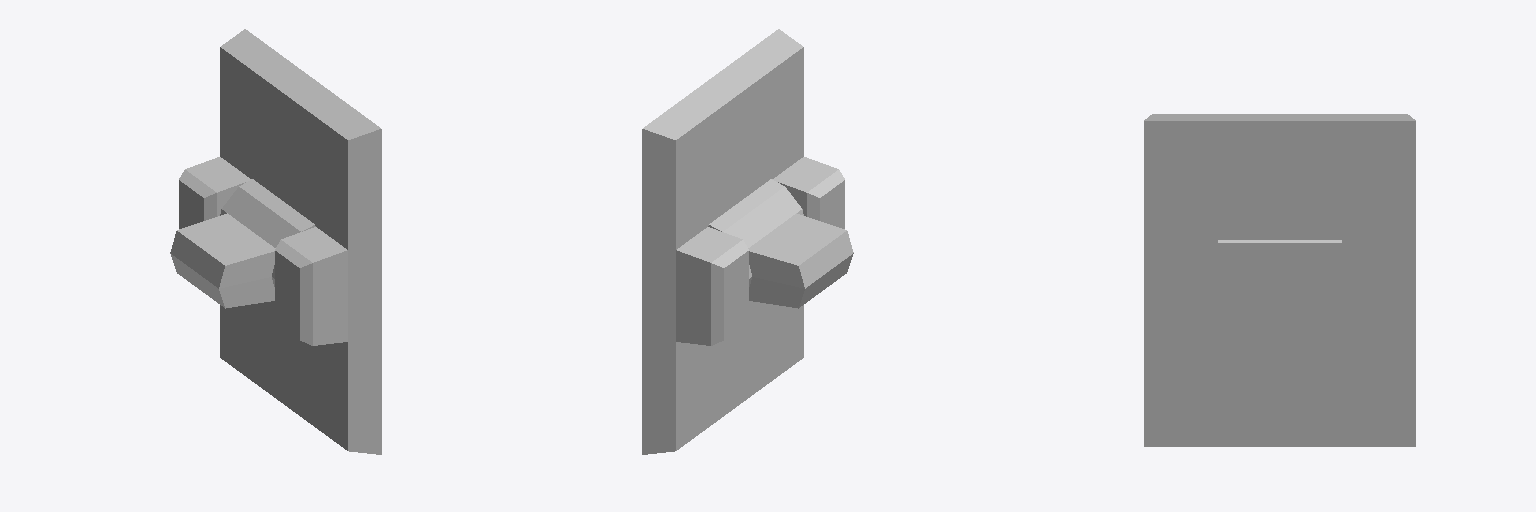
Rendered from switch.obj.
3 renders of one model, left to right at view 1: azimuth 30°, elevation 25°; view 2: azimuth 150°, elevation 25°; view 3: azimuth 270°, elevation 25°, orthographic.
Visible parts, largest first — view 1: switch.obj; view 2: switch.obj; view 3: switch.obj.
Part boxes in pixels (x1,y1,x2,y2): switch.obj: (170, 29, 381, 454); switch.obj: (642, 29, 853, 454); switch.obj: (1144, 114, 1415, 446).
Bounding box in the file's own units: 0.13 × 0.33 × 0.25.